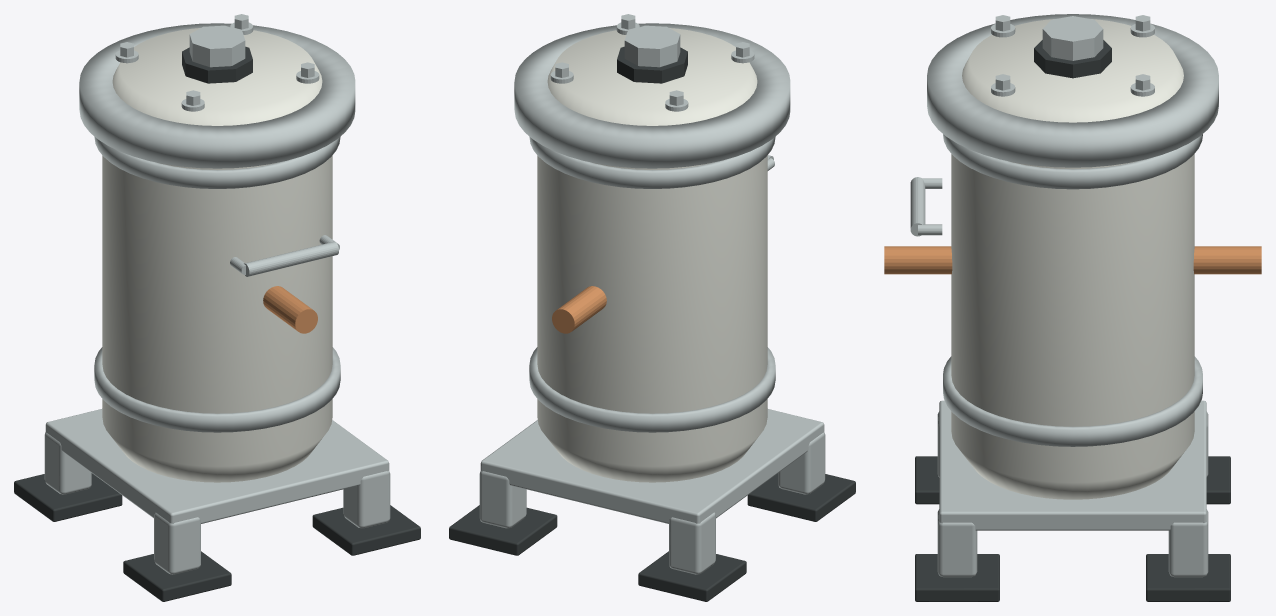
File: generation-ship-hydroponics-generation-ship-hydroponic-525bfeea__31488.glb
3 renders of one model, left to right at view 1: azimuth 30°, elevation 25°; view 2: azimuth 150°, elevation 25°; view 3: azimuth 270°, elevation 25°, orthographic. The views are drawn at different scales.
Parts seen in each view (by area): view 1: generation-ship-hydroponics-membrane-filter-housing; view 2: generation-ship-hydroponics-membrane-filter-housing; view 3: generation-ship-hydroponics-membrane-filter-housing.
Part boxes in pixels (x1,y1,x2,y2): generation-ship-hydroponics-membrane-filter-housing: (14,14,420,601); generation-ship-hydroponics-membrane-filter-housing: (449,14,855,601); generation-ship-hydroponics-membrane-filter-housing: (884,14,1261,601).
Bounding box in the file's own units: 0.52 × 0.92 × 0.62.
